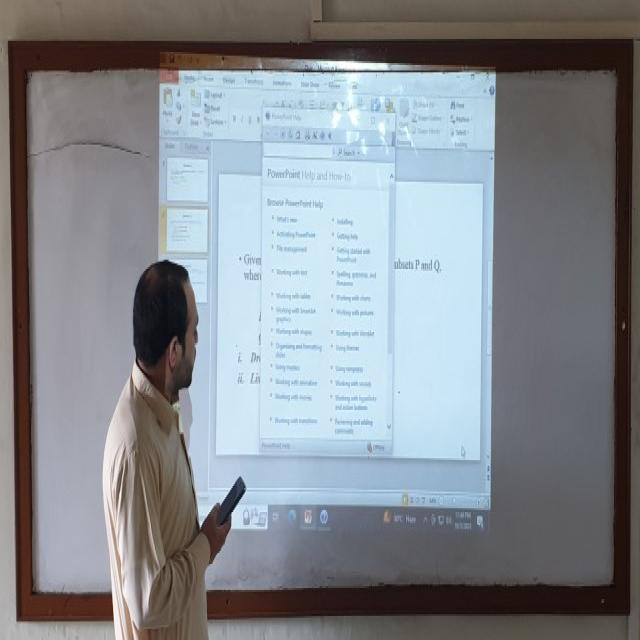Instructor: (103, 256, 239, 640)
Slide: (158, 53, 499, 540)
White-board: (18, 52, 627, 605)
